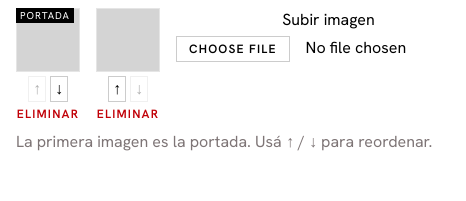
Test: ProductImages › surfaces the server message and does not refresh when a reorder is rejected
Click the button named "hacia atrás".
click(59, 89)  # box top-left (50, 76), bottom-right (68, 102)
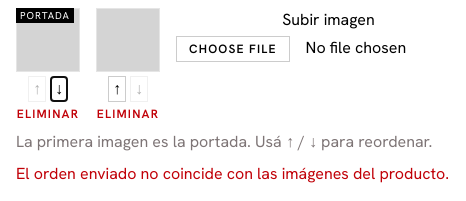
Now the message reads "El orden enviado no coincide con las imágenes del producto.", box top-left (16, 163), bottom-right (449, 184)
